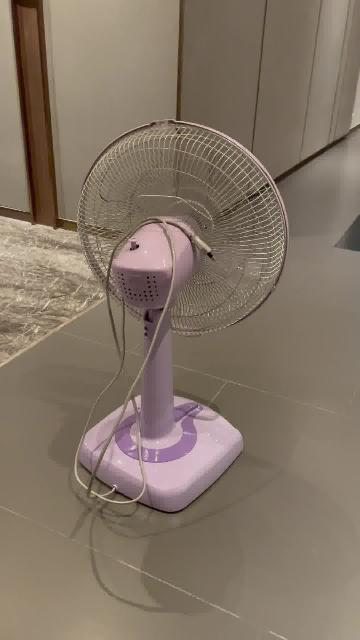Fan: (78, 121, 289, 515)
